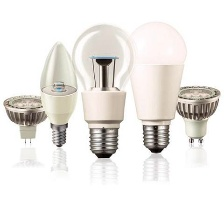light_bulb: (68, 18, 140, 160), (122, 15, 190, 159), (36, 33, 83, 154), (164, 77, 223, 149), (2, 91, 52, 146)
